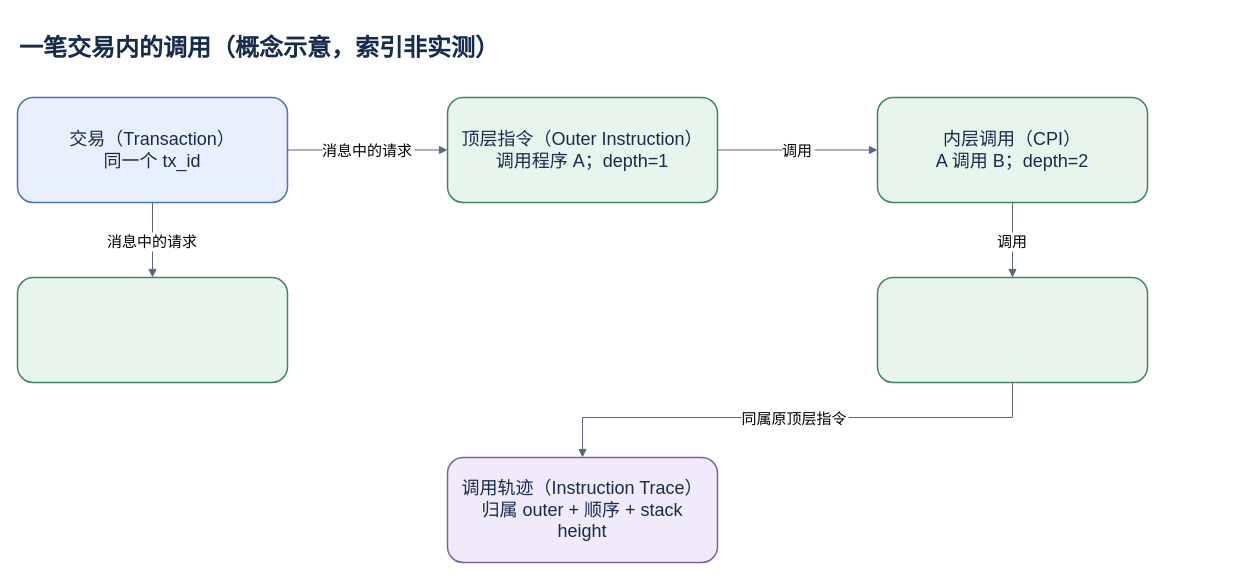
Some shapes in this 1235 by 580 pixel diagram are drawn without their labels. Here are the shapes that lost their labels. From the top down, the centre of each, then its label:
point (152, 329): 另一个顶层指令（Outer） 与前一条顺序执行
point (1012, 329): 更深调用（Nested CPI） B 调用 Token Program；depth=3
